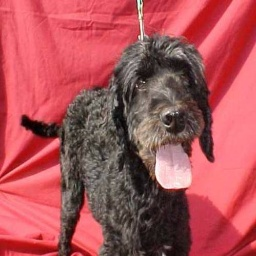dog: (25, 35, 217, 252)
